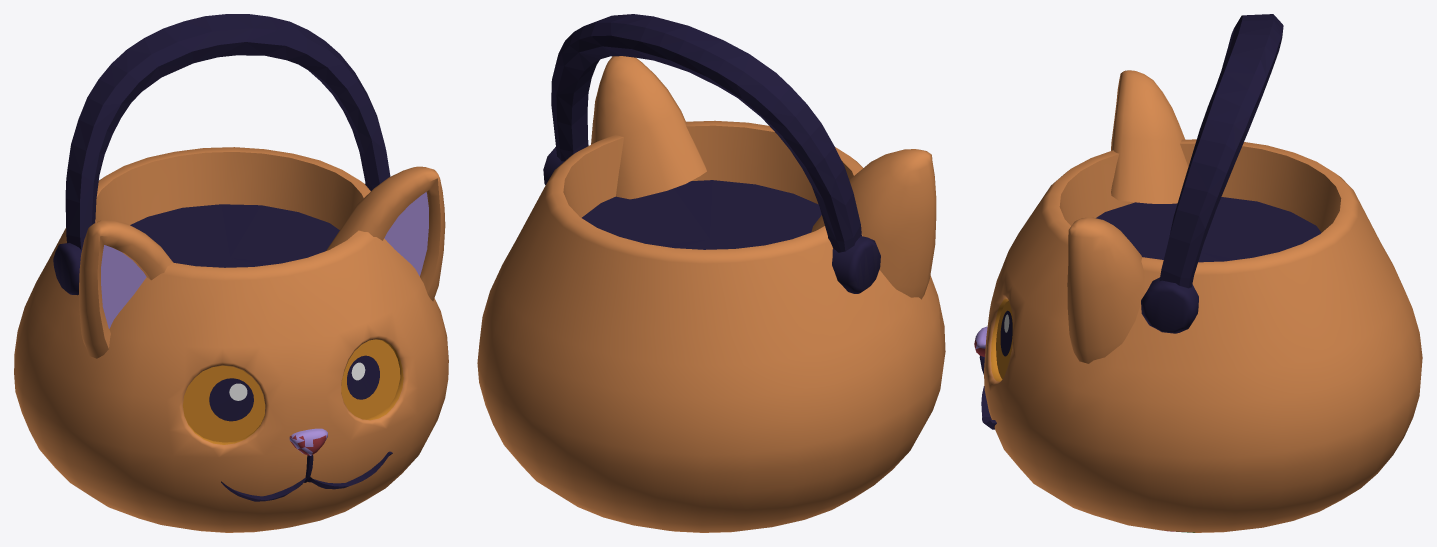
Rendered from EVHalloween_PumpkinTreatPail_Variant2.fbx.
3 renders of one model, left to right at view 1: azimuth 30°, elevation 25°; view 2: azimuth 150°, elevation 25°; view 3: azimuth 270°, elevation 25°, orthographic. The views are drawn at different scales.
Parts seen in each view (by area): view 1: EVHalloween_Decor_PumpkinOrange; view 2: EVHalloween_Decor_PumpkinOrange; view 3: EVHalloween_Decor_PumpkinOrange.
Part boxes in pixels (<box>): EVHalloween_Decor_PumpkinOrange: <box>14,14,448,532</box>; EVHalloween_Decor_PumpkinOrange: <box>477,14,945,532</box>; EVHalloween_Decor_PumpkinOrange: <box>974,14,1422,532</box>.
Bounding box in the file's own units: 30.91 × 34.3 × 31.16.
